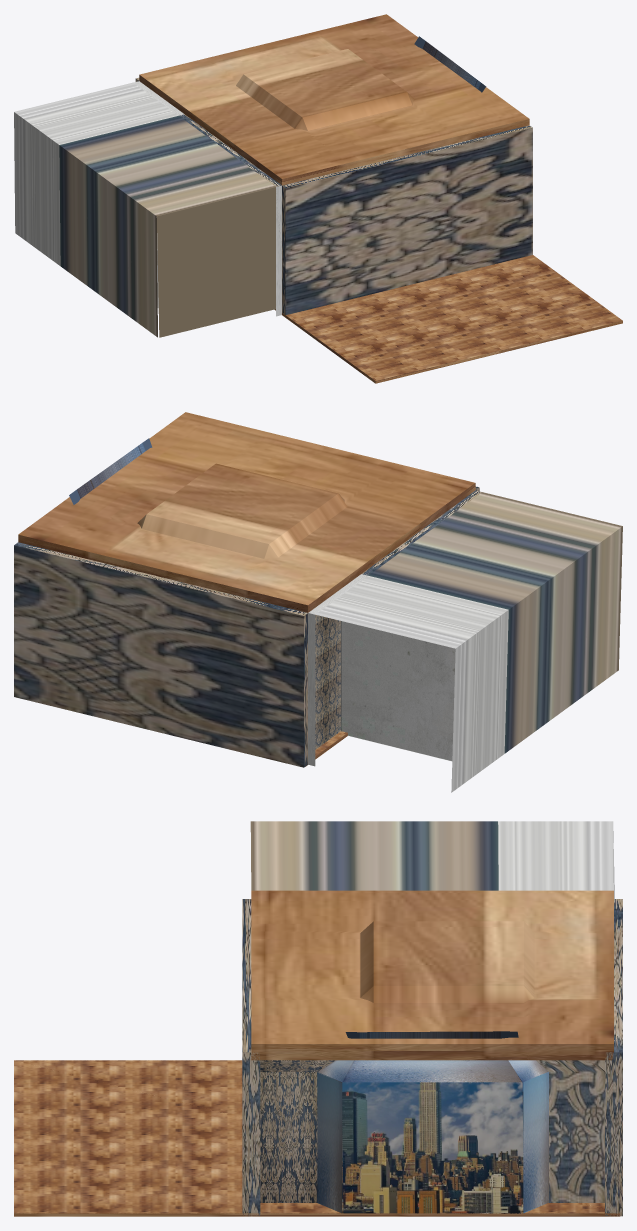
File: Office.fbx
3 renders of one model, top to bottom at view 1: azimuth 30°, elevation 25°; view 2: azimuth 150°, elevation 25°; view 3: azimuth 270°, elevation 25°, orthographic. The views are drawn at different scales.
Visible parts, largest first — view 1: Wall.001, Roof, Wall.002, Floor, Plane.005; view 2: Wall.001, Roof, Wall, Plane.005; view 3: Roof, Floor, Wall.001, Plane, Wall.004, Wall.003, Plane.005, Wall.002, Wall, Plane.002, Plane.001.
Boxes of the visible parts, x1,y1,x2,y2 form: Wall.001: [14, 81, 281, 337]; Roof: [139, 14, 529, 185]; Wall.002: [282, 125, 532, 315]; Floor: [274, 255, 622, 383]; Plane.005: [414, 36, 486, 92]; Wall.001: [308, 490, 622, 792]; Roof: [18, 412, 475, 612]; Wall: [14, 542, 307, 767]; Plane.005: [69, 438, 152, 504]; Roof: [251, 890, 613, 1060]; Floor: [14, 1060, 619, 1216]; Wall.001: [250, 821, 614, 898]; Plane: [342, 1082, 523, 1213]; Wall.004: [260, 1060, 334, 1202]; Wall.003: [536, 1036, 621, 1202]; Plane.005: [317, 1031, 548, 1082]; Wall.002: [242, 899, 260, 1216]; Wall: [605, 899, 622, 1216]; Plane.002: [317, 1072, 342, 1213]; Plane.001: [523, 1072, 548, 1213].
Bounding box in the file's own units: 6033 × 2329 × 6719.
